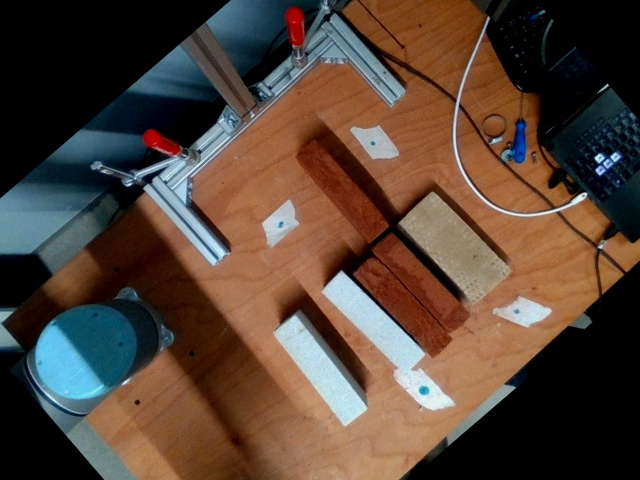brick: (399, 190, 508, 303)
brick-side: (321, 272, 426, 373), (273, 315, 368, 424), (353, 254, 452, 356), (373, 231, 470, 334), (298, 141, 389, 241)
